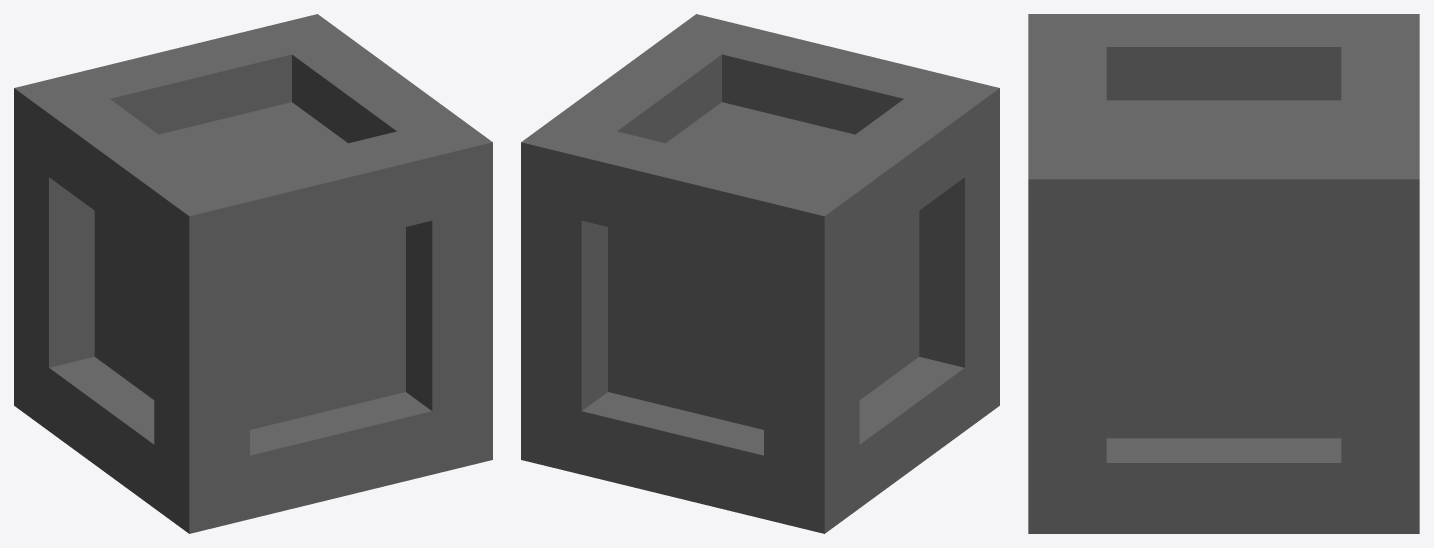
Rendered from stone3lives.fbx.
3 views of the same model, side by side, from view 1: azimuth 30°, elevation 25°; view 2: azimuth 150°, elevation 25°; view 3: azimuth 270°, elevation 25° (orthographic). The views are drawn at different scales.
Parts seen in each view (by area): view 1: Cube.001; view 2: Cube.001; view 3: Cube.001.
Part boxes in pixels (left/top/right/bottom): Cube.001: left=14, top=14, right=492, bottom=533; Cube.001: left=521, top=14, right=999, bottom=533; Cube.001: left=1028, top=14, right=1419, bottom=533.
Bounding box in the file's own units: 200 × 200 × 200.
